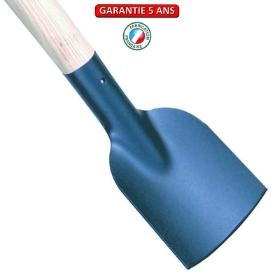PELLE: (5, 2, 271, 275)
